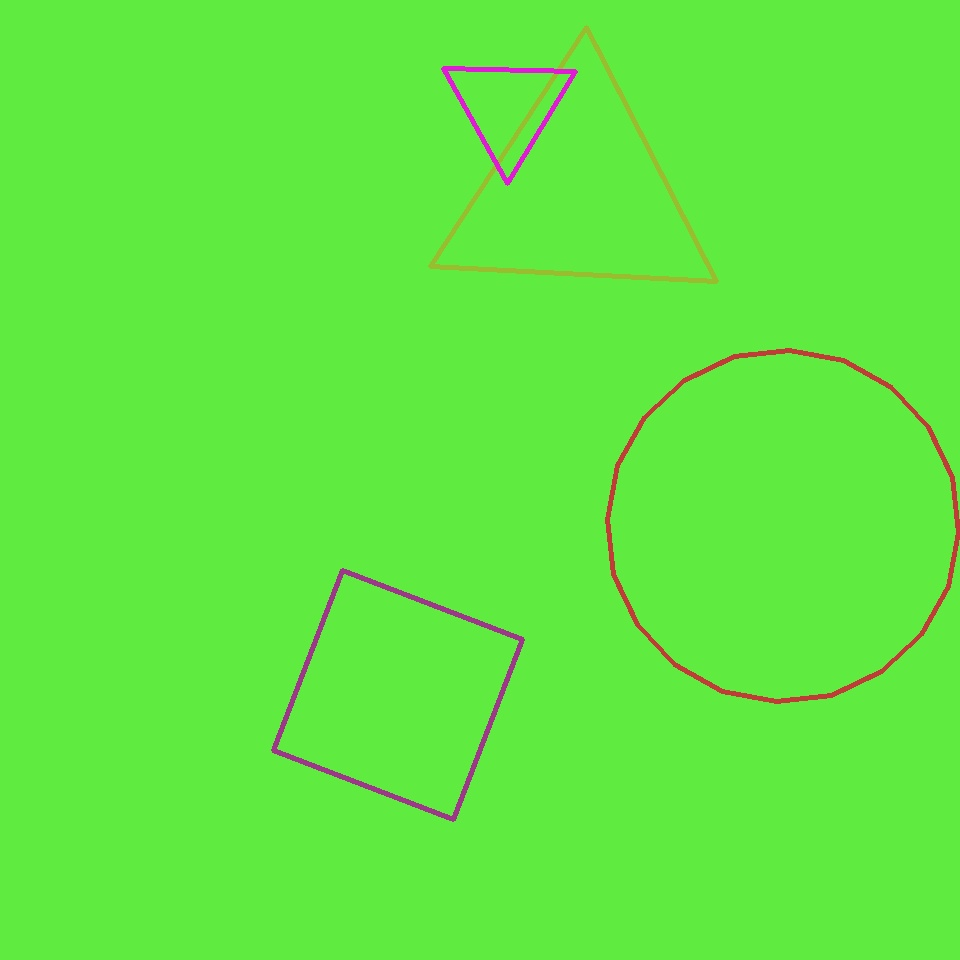circle: (435, 65, 721, 319), (443, 50, 575, 166)
square: (274, 570, 522, 820)
triangle: (608, 351, 959, 702)
